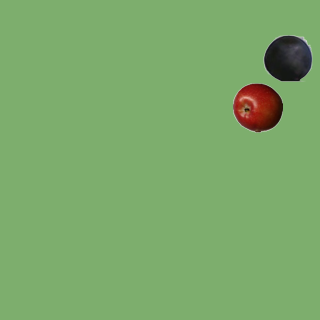Apple Braeburn: (232, 82, 282, 132)
Grape Blue: (262, 32, 312, 82)
